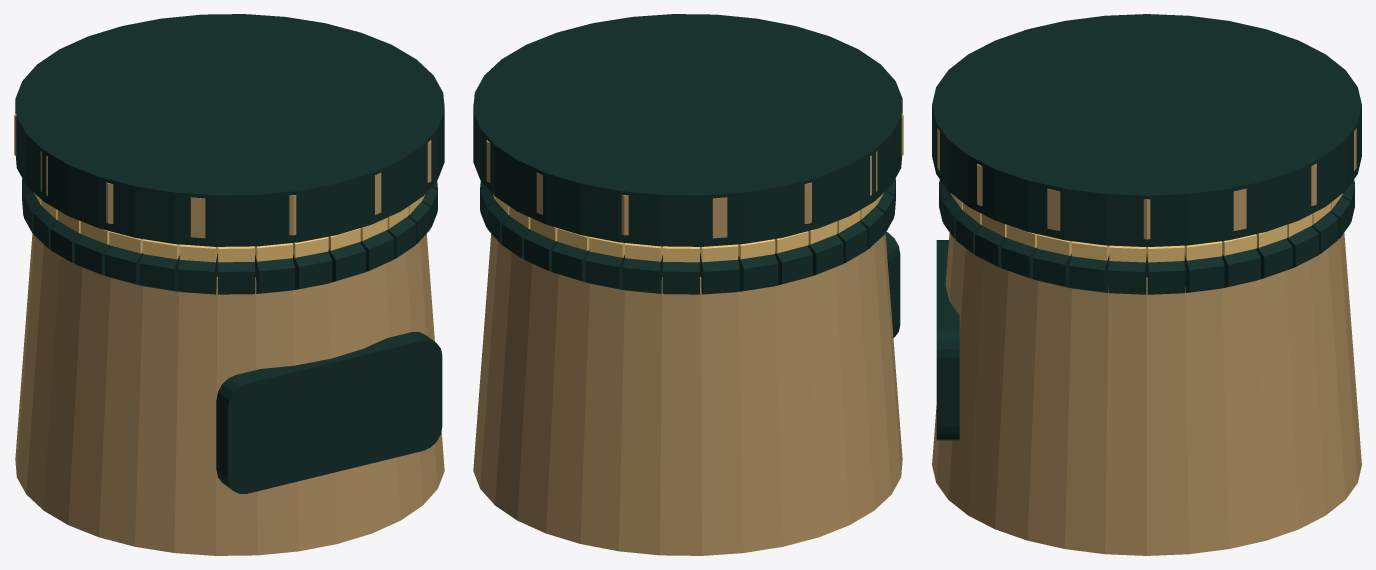
The model's file is sealjar.glb.
3 renders of one model, left to right at view 1: azimuth 30°, elevation 25°; view 2: azimuth 150°, elevation 25°; view 3: azimuth 270°, elevation 25°, orthographic.
Parts seen in each view (by area): view 1: jar base, lid, label, shoulder11, shoulder9, shoulder12, shoulder10, shoulder8, shoulder13, shoulder7, shoulder14, shoulder6 (+10 smaller); view 2: jar base, lid, shoulder20, shoulder22, shoulder19, shoulder21, shoulder23, shoulder18, label, shoulder24, shoulder17, shoulder25 (+10 smaller); view 3: jar base, lid, label, shoulder1, shoulder30, shoulder0, shoulder31, shoulder2, shoulder29, shoulder3, shoulder28, shoulder4 (+11 smaller).
Part boxes in pixels (x1,y1,x2,y2): jar base: (15,233,444,555); lid: (15,14,444,246); label: (216,332,442,493); shoulder11: (178,254,217,294); shoulder9: (255,254,294,293); shoulder12: (139,254,179,291); shoulder10: (217,253,255,294); shoulder8: (292,251,332,289); shoulder13: (105,245,143,285); shoulder7: (328,242,365,283); shoulder14: (74,234,109,275); shoulder6: (360,230,393,271); jar base: (473,233,902,555); lid: (473,14,902,246); shoulder20: (700,254,739,294); shoulder22: (623,254,662,293); shoulder19: (738,254,778,291); shoulder21: (662,253,700,294); shoulder23: (585,251,625,289); shoulder18: (774,245,812,285); label: (885,232,900,337); shoulder24: (552,242,589,283); shoulder17: (808,234,843,275); shoulder25: (524,230,557,271); jar base: (932,233,1361,555); lid: (932,14,1361,246); label: (936,240,959,440); shoulder1: (1069,255,1109,292); shoulder30: (1184,255,1224,292); shoulder0: (1108,254,1146,294); shoulder31: (1147,254,1185,294); shoulder2: (1033,248,1071,288); shoulder29: (1222,248,1260,288); shoulder3: (1001,238,1037,278); shoulder28: (1256,238,1292,278); shoulder4: (975,226,1007,267).
Bounding box in the file's own units: 1.06 × 0.98 × 1.06.
